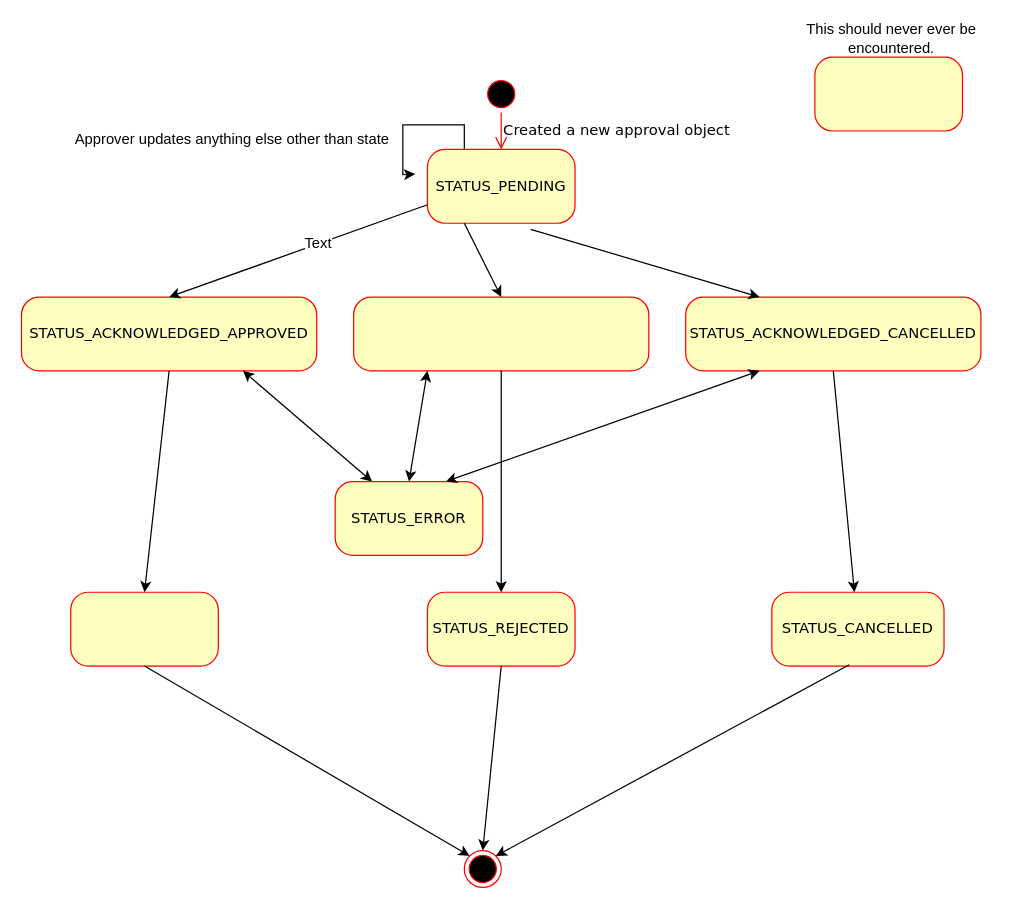
The diagram is 1027 pixels wide and 909 high, and some of its shapes have lost their labels. Each missing label, with the box of its shape:
STATUS_ACKNOWLEDGED_REJECTED: (352, 296, 649, 371)
STATUS_APPROVED: (69, 591, 218, 666)
STATUS_UNKNOWN: (814, 56, 962, 131)
